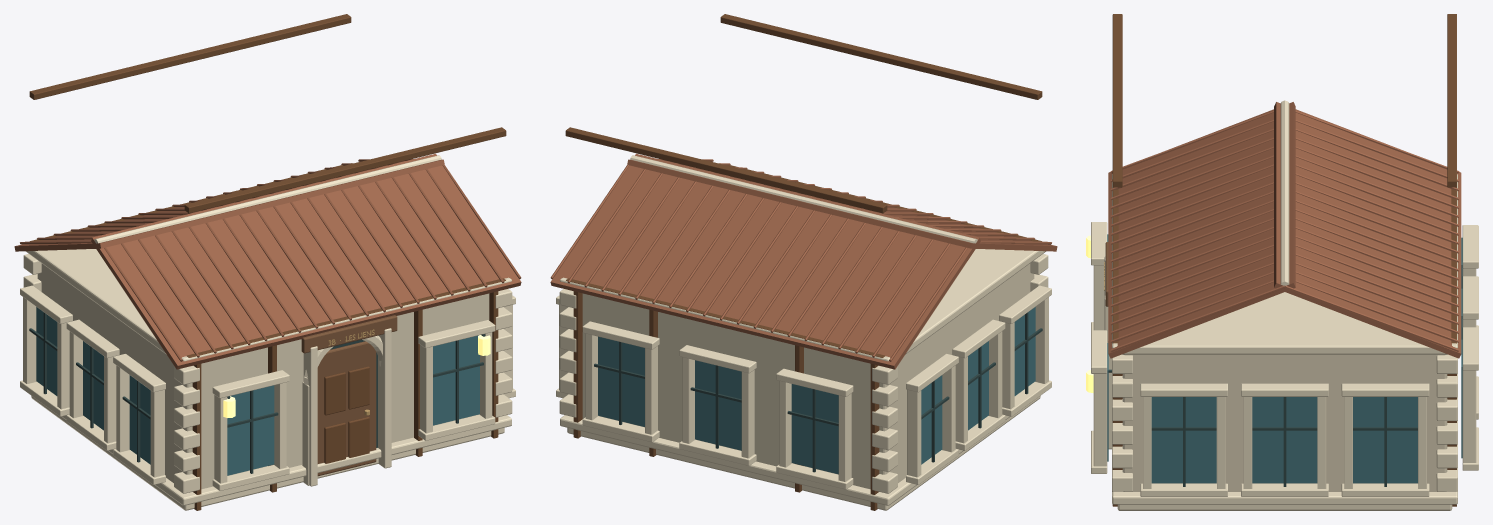
File: turquie-1.glb
3 renders of one model, left to right at view 1: azimuth 30°, elevation 25°; view 2: azimuth 150°, elevation 25°; view 3: azimuth 270°, elevation 25°, orthographic. The views are drawn at different scales.
Parts seen in each view (by area): view 1: turquie-1_Regional roof.002, turquie-1_Dressed stone.002, turquie-1_Masonry plaster.002, turquie-1_Walnut, turquie-1_Window blue, turquie-1_Regional painted wood.002, turquie-1_Forged midnight; view 2: turquie-1_Regional roof.002, turquie-1_Dressed stone.002, turquie-1_Masonry plaster.002, turquie-1_Window blue, turquie-1_Walnut, turquie-1_Forged midnight; view 3: turquie-1_Regional roof.002, turquie-1_Dressed stone.002, turquie-1_Window blue, turquie-1_Masonry plaster.002, turquie-1_Walnut, turquie-1_Forged midnight.
Part boxes in pixels (bbox=[...]): turquie-1_Regional roof.002: bbox=[14, 153, 521, 369]; turquie-1_Dressed stone.002: bbox=[20, 155, 515, 510]; turquie-1_Masonry plaster.002: bbox=[37, 263, 489, 489]; turquie-1_Walnut: bbox=[29, 14, 506, 510]; turquie-1_Window blue: bbox=[36, 307, 479, 475]; turquie-1_Regional painted wood.002: bbox=[301, 315, 397, 476]; turquie-1_Forged midnight: bbox=[29, 312, 485, 473]; turquie-1_Regional roof.002: bbox=[550, 153, 1057, 369]; turquie-1_Dressed stone.002: bbox=[556, 155, 1051, 510]; turquie-1_Masonry plaster.002: bbox=[582, 263, 1034, 489]; turquie-1_Window blue: bbox=[598, 307, 1035, 474]; turquie-1_Walnut: bbox=[565, 14, 1042, 510]; turquie-1_Forged midnight: bbox=[594, 312, 1042, 472]; turquie-1_Regional roof.002: bbox=[1108, 102, 1461, 358]; turquie-1_Dressed stone.002: bbox=[1091, 100, 1478, 510]; turquie-1_Window blue: bbox=[1107, 234, 1462, 483]; turquie-1_Masonry plaster.002: bbox=[1122, 354, 1447, 491]; turquie-1_Walnut: bbox=[1112, 14, 1456, 506]; turquie-1_Forged midnight: bbox=[1108, 369, 1417, 486].
Bounding box in the file's own units: 13.94 × 11.21 × 12.09.
